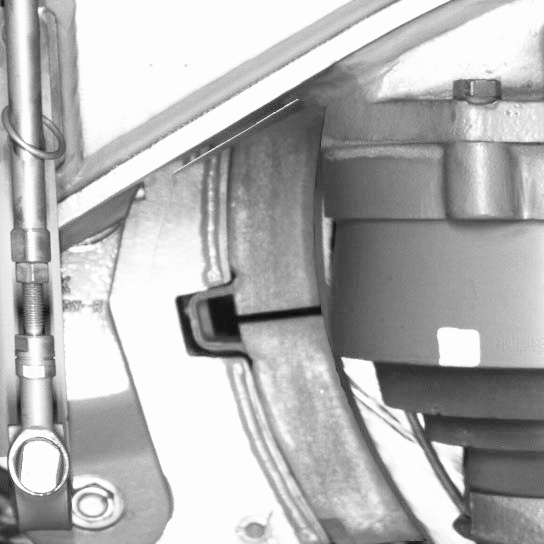ClosedKnifeSwitch: (238, 145, 446, 542)
